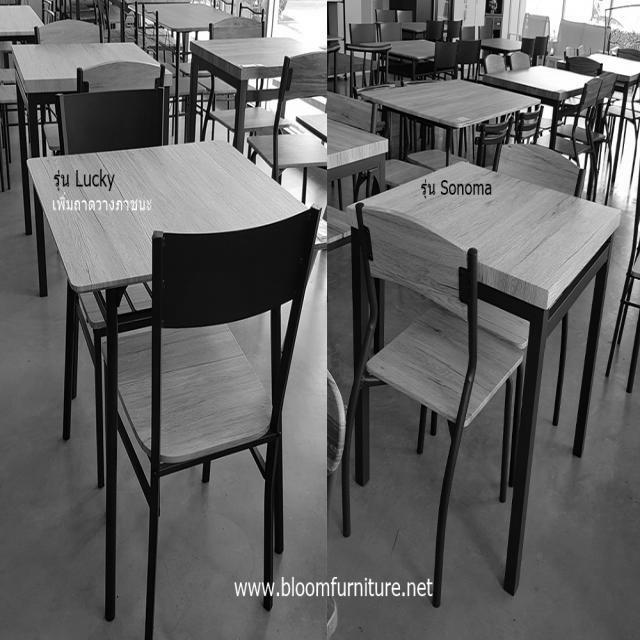table: (21, 121, 325, 306), (356, 136, 624, 332), (352, 37, 546, 133), (9, 11, 172, 108), (184, 13, 326, 122)
